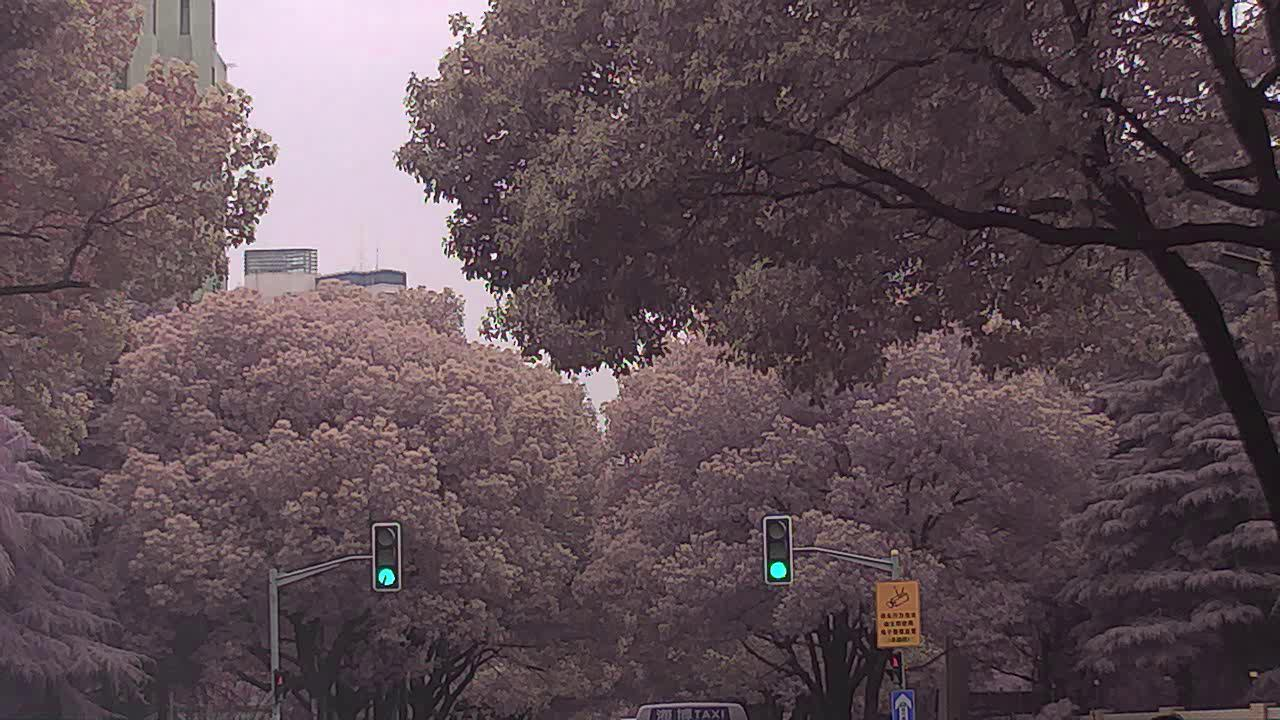traffic_light: (371, 521, 402, 592), (765, 517, 793, 585)
